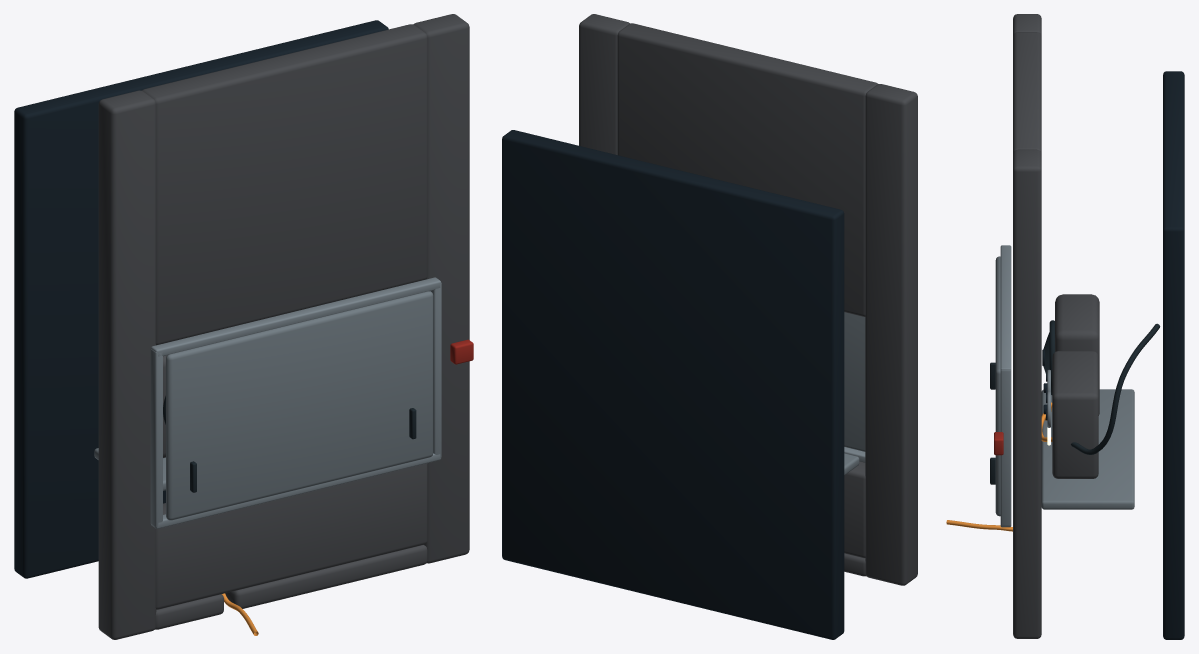
Rendered from fake-sos-door.glb.
3 renders of one model, left to right at view 1: azimuth 30°, elevation 25°; view 2: azimuth 150°, elevation 25°; view 3: azimuth 270°, elevation 25°, orthographic. The views are drawn at different scales.
Visible parts, largest first — view 1: TopDoorSlab, InspectionCover, CommsBackWall, LeftDoorSlab, LowerDoorSlab, RightDoorSlab, WireNotchRight, InspectionFrameEdge1.56, InspectionFrameSide-0.8, InspectionFrameEdge0.62, InspectionFrameSide0.8, WireNotchLeft; view 2: CommsBackWall, TopDoorSlab, LeftDoorSlab, RightDoorSlab, InspectionCover, LowerDoorSlab; view 3: RightDoorSlab, CommsBackWall, CommsShelf, CommsRecorderBody, TopDoorSlab, SpeakerCabinet, InspectionFrameSide0.8, InspectionFrameEdge1.56, InspectionCover, CommunicationsUplink, LeftDoorSlab.
Part boxes in pixels (left/top/right/bottom): TopDoorSlab: left=142, top=24, right=427, bottom=345; InspectionCover: left=166, top=291, right=433, bottom=520; CommsBackWall: left=14, top=20, right=388, bottom=578; LeftDoorSlab: left=98, top=90, right=156, bottom=639; LowerDoorSlab: left=155, top=463, right=427, bottom=609; RightDoorSlab: left=413, top=14, right=469, bottom=563; WireNotchRight: left=225, top=545, right=427, bottom=608; InspectionFrameEdge1.56: left=151, top=277, right=441, bottom=356; InspectionFrameSide-0.8: left=150, top=349, right=162, bottom=527; InspectionFrameEdge0.62: left=151, top=453, right=441, bottom=528; InspectionFrameSide0.8: left=431, top=283, right=441, bottom=457; WireNotchLeft: left=155, top=594, right=223, bottom=629; CommsBackWall: left=502, top=130, right=844, bottom=639; TopDoorSlab: left=617, top=23, right=877, bottom=316; LeftDoorSlab: left=865, top=84, right=917, bottom=585; RightDoorSlab: left=579, top=14, right=629, bottom=154; InspectionCover: left=844, top=312, right=865, bottom=451; LowerDoorSlab: left=844, top=461, right=865, bottom=558; RightDoorSlab: left=1013, top=149, right=1041, bottom=638; CommsBackWall: left=1163, top=71, right=1184, bottom=639; CommsShelf: left=1041, top=389, right=1134, bottom=509; CommsRecorderBody: left=1052, top=351, right=1098, bottom=478; TopDoorSlab: left=1013, top=32, right=1041, bottom=153; SpeakerCabinet: left=1055, top=294, right=1099, bottom=415; InspectionFrameSide0.8: left=1000, top=370, right=1011, bottom=526; InspectionFrameEdge1.56: left=1000, top=245, right=1011, bottom=370; InspectionCover: left=995, top=256, right=1000, bottom=516; CommunicationsUplink: left=1071, top=323, right=1160, bottom=454; LeftDoorSlab: left=1013, top=14, right=1041, bottom=35.
Bounding box in the file's own units: 2.1 × 2.92 × 1.33.
